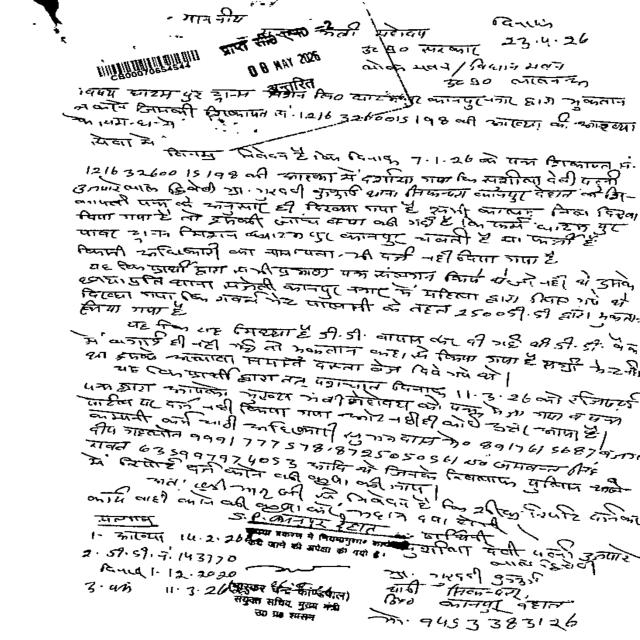antritgovtstamp: (216, 18, 355, 100)
barcode: (90, 49, 210, 82)
signnamestamp: (209, 560, 361, 626)
